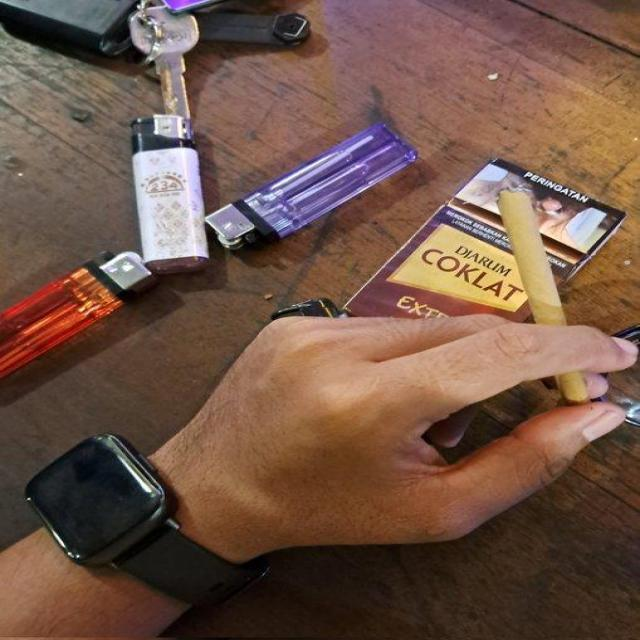rokok: (495, 176, 615, 402)
